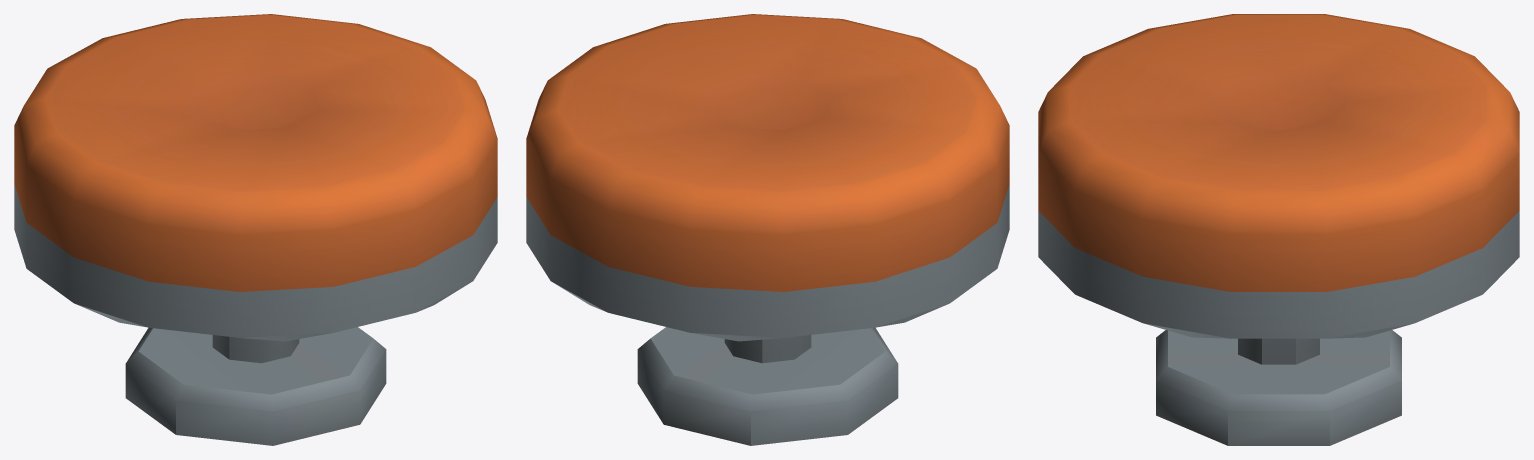
The model's file is chair_stool.glb.
The picture shows the model from 3 angles, left to right: view 1: azimuth 30°, elevation 25°; view 2: azimuth 150°, elevation 25°; view 3: azimuth 270°, elevation 25°; orthographic projection.
Visible parts, largest first — view 1: chair_stool; view 2: chair_stool; view 3: chair_stool.
Part boxes in pixels (bbox=[...]): chair_stool: bbox=[14, 14, 497, 445]; chair_stool: bbox=[526, 14, 1009, 445]; chair_stool: bbox=[1038, 14, 1519, 445].
Bounding box in the file's own units: 0.75 × 0.5 × 0.75.
1 material, 1 textured.
